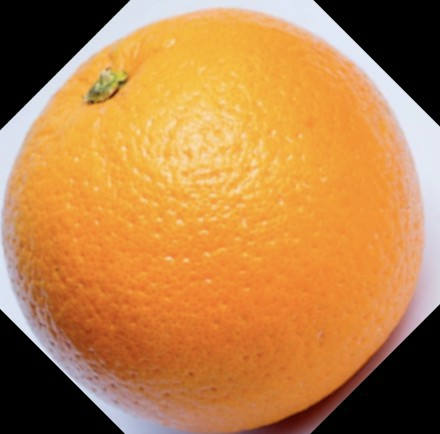fresh_orange: (1, 9, 426, 432)
